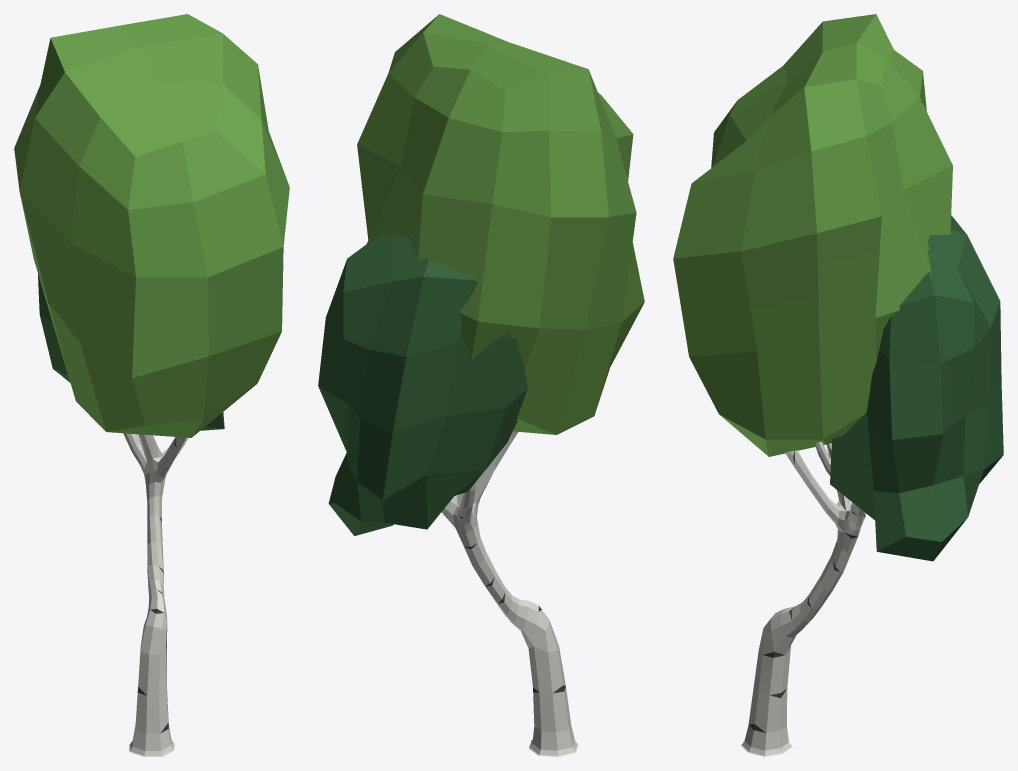
File: BirchTree_2.glb
3 views of the same model, side by side, from view 1: azimuth 30°, elevation 25°; view 2: azimuth 150°, elevation 25°; view 3: azimuth 270°, elevation 25° (orthographic). The views are drawn at different scales.
Parts seen in each view (by area): view 1: BirchTree_2; view 2: BirchTree_2; view 3: BirchTree_2.
Part boxes in pixels (left/top/right/bottom): BirchTree_2: left=14, top=14, right=289, bottom=756; BirchTree_2: left=318, top=14, right=644, bottom=756; BirchTree_2: left=673, top=14, right=1003, bottom=756.
Bounding box in the file's own units: 2.79 × 7.74 × 3.26.
